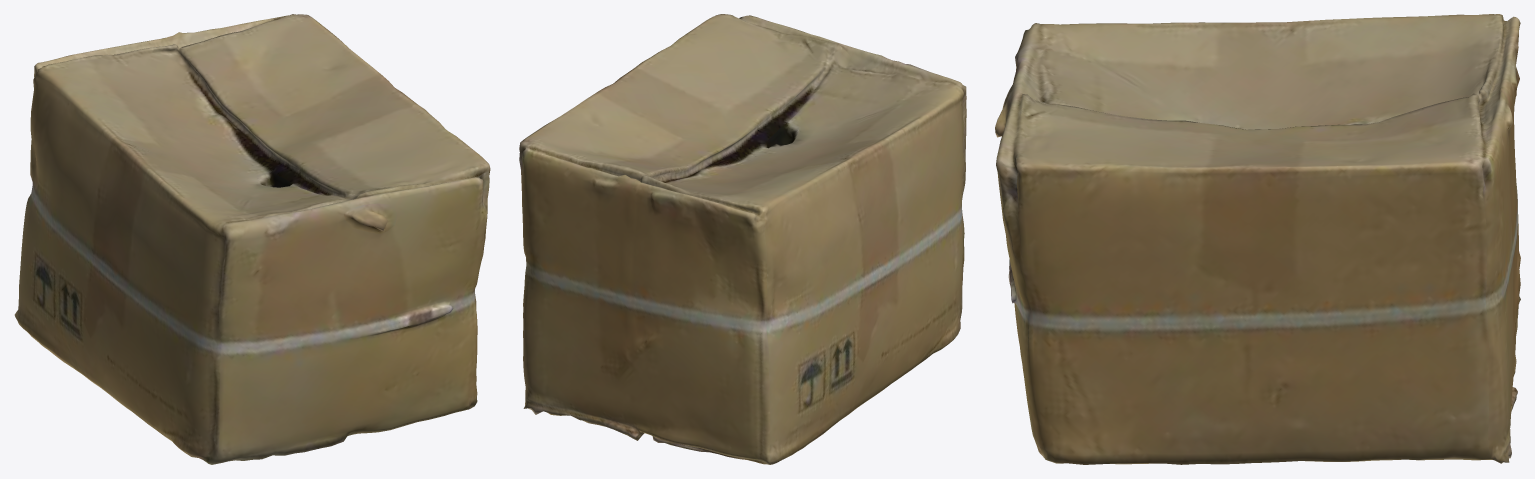
File: cardboard_box_01.glb
The picture shows the model from 3 angles, left to right: view 1: azimuth 30°, elevation 25°; view 2: azimuth 150°, elevation 25°; view 3: azimuth 270°, elevation 25°; orthographic projection. The views are drawn at different scales.
Parts seen in each view (by area): view 1: cardboard_box_01; view 2: cardboard_box_01; view 3: cardboard_box_01.
Part boxes in pixels (x1,y1,x2,y2): cardboard_box_01: [14, 14, 490, 464]; cardboard_box_01: [519, 14, 966, 464]; cardboard_box_01: [995, 14, 1520, 464].
Size of the model in its own units: 0.387 by 0.3418 by 0.5159.
1 material, 1 textured.
